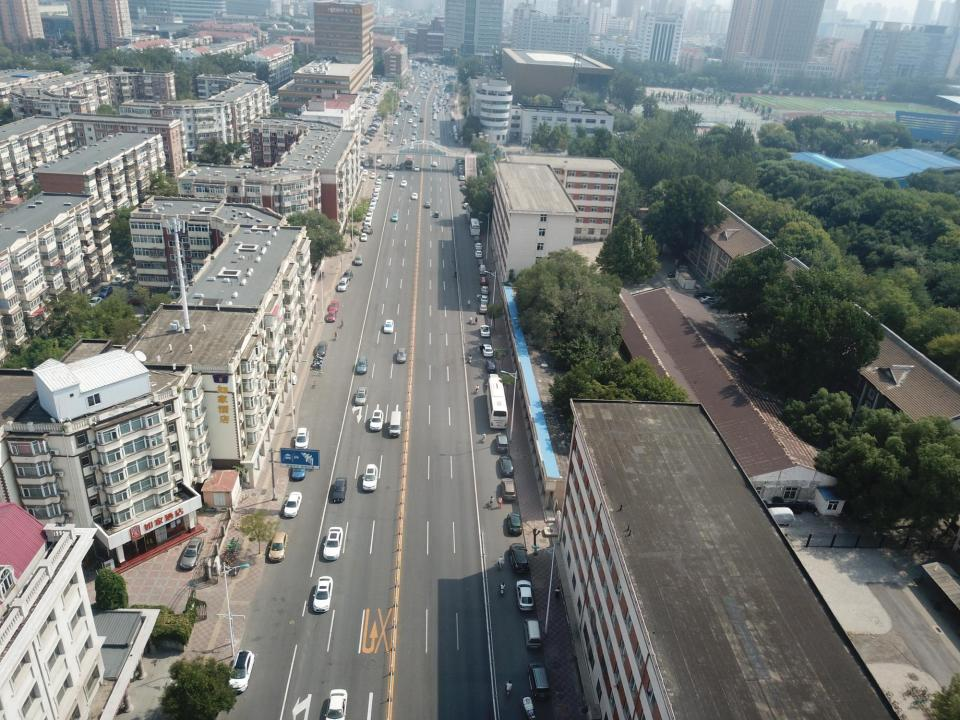bus: (486, 378, 507, 430), (468, 218, 482, 236), (465, 204, 478, 221)
car: (226, 650, 256, 696), (527, 660, 552, 702), (179, 536, 203, 572), (322, 526, 343, 562), (313, 576, 333, 612), (765, 504, 796, 527), (515, 578, 535, 612), (326, 688, 346, 720), (509, 542, 530, 572), (268, 532, 288, 562), (524, 618, 542, 650), (284, 491, 303, 520), (361, 464, 378, 493), (501, 476, 519, 503), (331, 477, 348, 503), (506, 511, 522, 536), (291, 463, 308, 482), (368, 410, 384, 430), (499, 455, 514, 476), (295, 426, 308, 449), (354, 387, 368, 406), (355, 355, 368, 375), (496, 434, 508, 455), (98, 286, 112, 300), (478, 344, 494, 356), (396, 347, 407, 363), (383, 318, 395, 332), (112, 273, 126, 285), (480, 324, 492, 337), (89, 296, 102, 308), (127, 297, 144, 306), (486, 359, 496, 373), (326, 310, 337, 322), (354, 253, 363, 266), (343, 270, 354, 279), (486, 373, 500, 380), (480, 294, 489, 304), (480, 284, 489, 294), (480, 277, 489, 286), (479, 303, 487, 313), (478, 264, 486, 274), (392, 213, 400, 223), (361, 226, 371, 233), (474, 250, 482, 258), (410, 192, 418, 199), (364, 219, 372, 226), (361, 233, 367, 242), (364, 213, 373, 219), (424, 201, 431, 208), (400, 180, 407, 187), (395, 162, 401, 170), (374, 184, 382, 190), (475, 243, 482, 249), (474, 235, 480, 242), (477, 259, 484, 265), (414, 165, 420, 172), (376, 174, 383, 180), (370, 198, 377, 204), (459, 174, 465, 181), (463, 202, 470, 208), (372, 190, 380, 195), (372, 194, 378, 200), (460, 186, 466, 192), (434, 211, 439, 218), (368, 204, 375, 209), (432, 162, 437, 168), (388, 172, 393, 178), (457, 159, 462, 165), (458, 165, 464, 170), (460, 181, 466, 186), (362, 170, 367, 175), (370, 172, 375, 177), (376, 179, 381, 184), (368, 209, 373, 214), (459, 168, 463, 174)
van: (388, 410, 403, 437), (335, 277, 349, 292), (315, 341, 328, 357)
